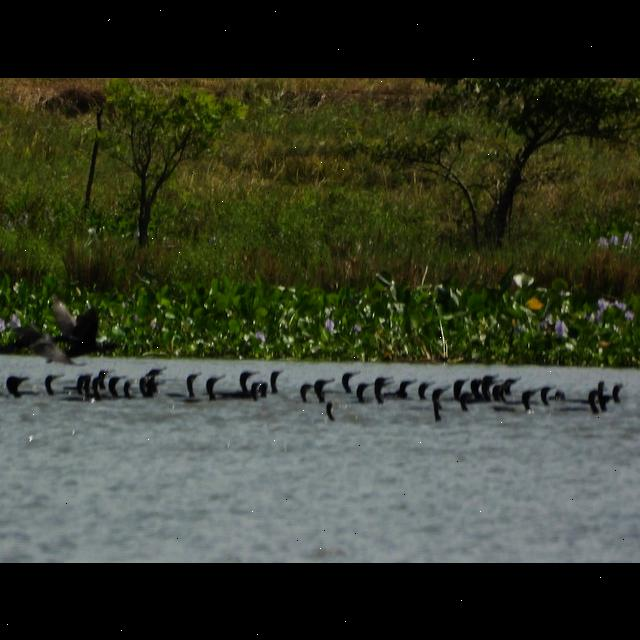cormorant: (41, 374, 67, 401), (182, 371, 204, 402), (6, 376, 32, 400), (353, 378, 372, 407)
